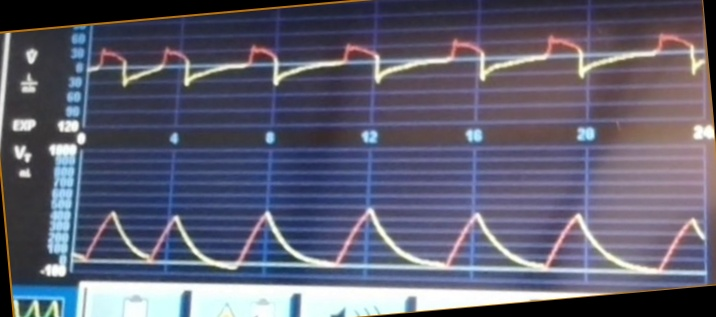Normal Flow: (92, 26, 702, 109)
Normal Volume: (79, 182, 704, 275)
